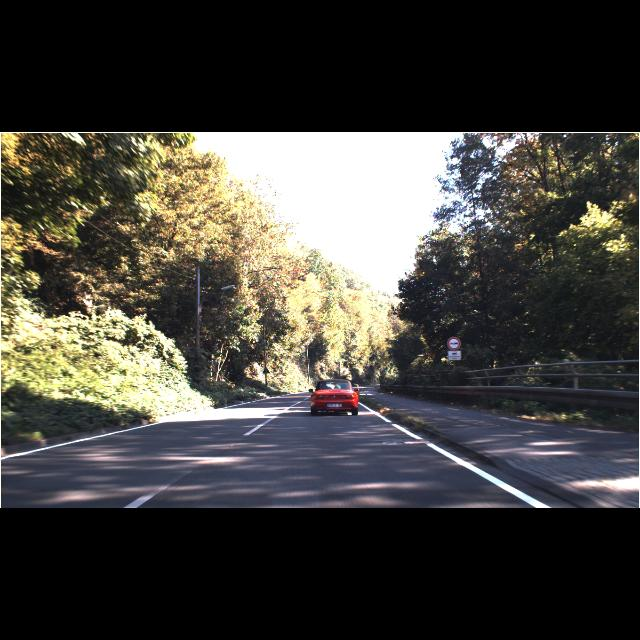prohibitory: (447, 337, 461, 351)
